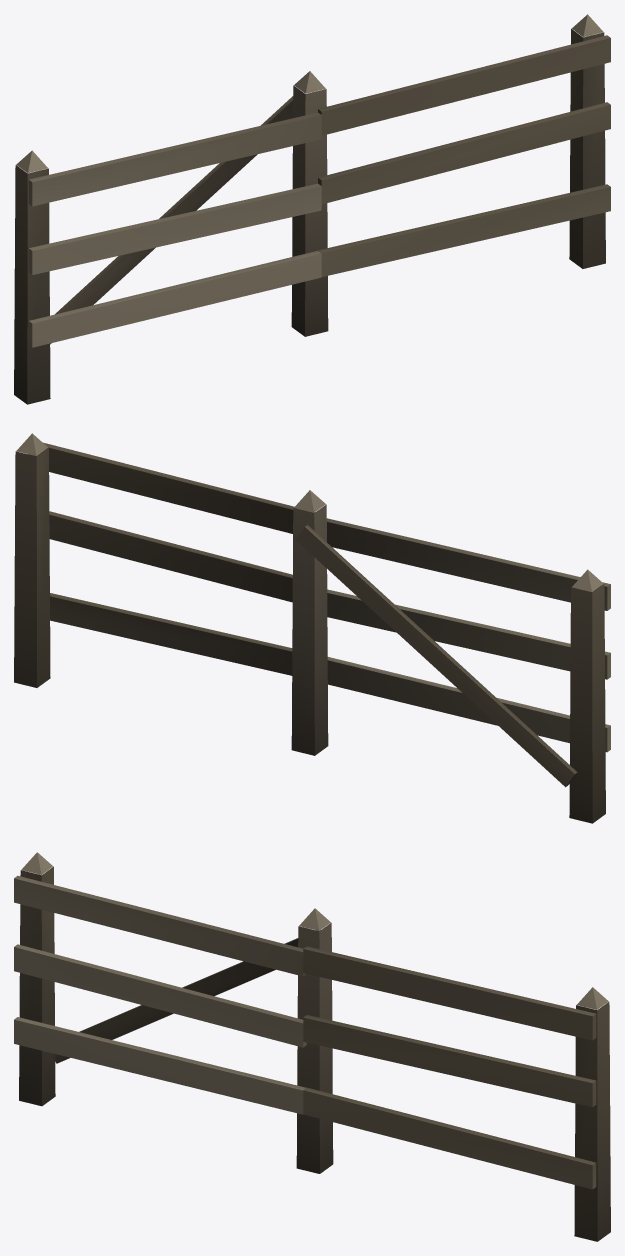
Rendered from field_fence.glb.
3 views of the same model, one above another, from view 1: azimuth 30°, elevation 25°; view 2: azimuth 150°, elevation 25°; view 3: azimuth 330°, elevation 25° (orthographic).
Parts seen in each view (by area): view 1: FieldFence; view 2: FieldFence; view 3: FieldFence.
Boxes of the visible parts, x1,y1,x2,y2 form: FieldFence: (14,14,610,404); FieldFence: (14,433,610,823); FieldFence: (14,852,610,1241).
Bounding box in the file's own units: 3 × 1.28 × 0.1925.
